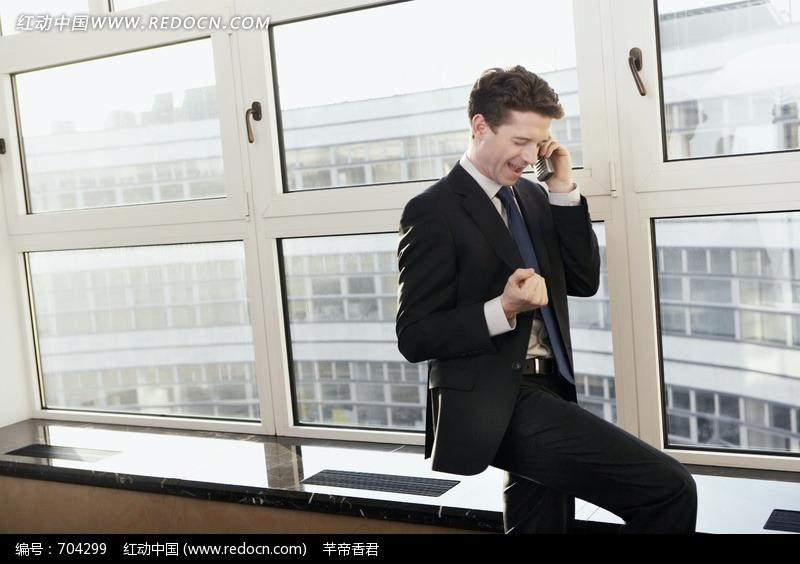phone: (530, 140, 560, 176)
talk: (492, 125, 586, 211)
